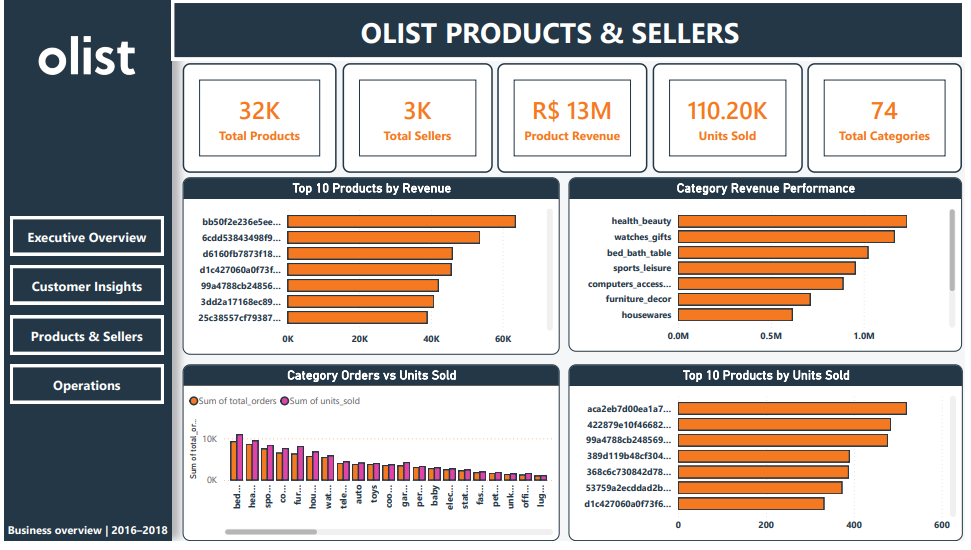

The page's visual inventory and layout, read from the dashboard file:
{"tool":"powerbi","page":{"name":"Products & Sellers","canvas":[1280,720],"ordinal":2},"visuals":[{"type":"shape","box":[0,0,223.3,720],"z":0},{"type":"shape","box":[223.3,0,1056.7,80],"z":1000},{"type":"image","box":[23.3,0,175,146.7],"z":2000},{"type":"textbox","box":[175,11.7,1105,68.3],"z":3000},{"type":"textbox","box":[0,689.8,237.3,30.8],"z":4000},{"type":"actionButton","box":[8.3,288.3,205,51.7],"z":5000},{"type":"actionButton","box":[8.3,353.3,205,51.7],"z":6000},{"type":"actionButton","box":[8.3,420,205,51.7],"z":7000},{"type":"actionButton","box":[8.3,485,205,51.7],"z":8000},{"type":"cardVisual","fields":{"Data":["Measure Table.Total Products"]},"box":[237.6,83.5,205.9,146.9],"z":9000},{"type":"cardVisual","fields":{"Data":["Measure Table.Total Sellers"]},"box":[450.7,83.5,200.1,146.9],"z":10000},{"type":"cardVisual","fields":{"Data":["Measure Table.Total Units Sold"]},"box":[863.9,83.5,200.1,146.9],"z":11000},{"type":"cardVisual","fields":{"Data":["Measure Table.Total Product Revenue"]},"box":[656.6,83.5,200.1,146.9],"z":12000},{"type":"cardVisual","fields":{"Data":["Measure Table.Total Categories"]},"box":[1069.8,83.5,205.9,146.9],"z":13000},{"type":"barChart","title":"Top 10 Products by Revenue","fields":{"Category":["analytics product_performance.product_id"],"Y":["Sum(analytics product_performance.total_revenue)"]},"box":[237.6,236.1,502.5,236.1],"z":14000},{"type":"barChart","title":"Top 10 Products by Units Sold","fields":{"Category":["analytics product_performance.product_id"],"Y":["Sum(analytics product_performance.units_sold)"]},"box":[751.6,485.2,525.5,234.7],"z":15000},{"type":"barChart","title":"Category Revenue Performance","fields":{"Category":["analytics category_performance.category_name"],"Y":["Sum(analytics category_performance.total_revenue)"]},"box":[751.6,236.1,524.1,231.8],"z":15001},{"type":"clusteredColumnChart","title":"Category Orders vs Units Sold","fields":{"Category":["analytics category_performance.category_name"],"Y":["Sum(analytics category_performance.total_orders)","Sum(analytics category_performance.units_sold)"]},"box":[237.6,485.2,502.5,234.7],"z":15002}]}

Visuals, with their boxes in screenshot pixels (x1, y1, x2, y2), scaled from the page's 1280x720 canvas onto the 971x550 screenshot:
shape: rect(0, 0, 169, 549)
shape: rect(169, 0, 970, 61)
image: rect(18, 0, 150, 112)
textbox: rect(133, 9, 970, 61)
textbox: rect(0, 527, 180, 549)
actionButton: rect(6, 220, 162, 260)
actionButton: rect(6, 270, 162, 309)
actionButton: rect(6, 321, 162, 360)
actionButton: rect(6, 370, 162, 410)
cardVisual - Measure Table.Total Products: rect(180, 64, 336, 176)
cardVisual - Measure Table.Total Sellers: rect(342, 64, 494, 176)
cardVisual - Measure Table.Total Units Sold: rect(655, 64, 807, 176)
cardVisual - Measure Table.Total Product Revenue: rect(498, 64, 650, 176)
cardVisual - Measure Table.Total Categories: rect(812, 64, 968, 176)
"Top 10 Products by Revenue" barChart: rect(180, 180, 561, 361)
"Top 10 Products by Units Sold" barChart: rect(570, 371, 969, 549)
"Category Revenue Performance" barChart: rect(570, 180, 968, 357)
"Category Orders vs Units Sold" clusteredColumnChart: rect(180, 371, 561, 549)
